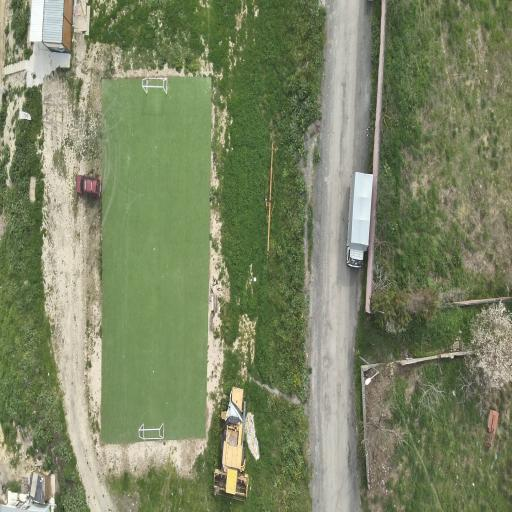car: (346, 172, 373, 268), (76, 175, 101, 198)
harvester: (214, 387, 248, 500)
